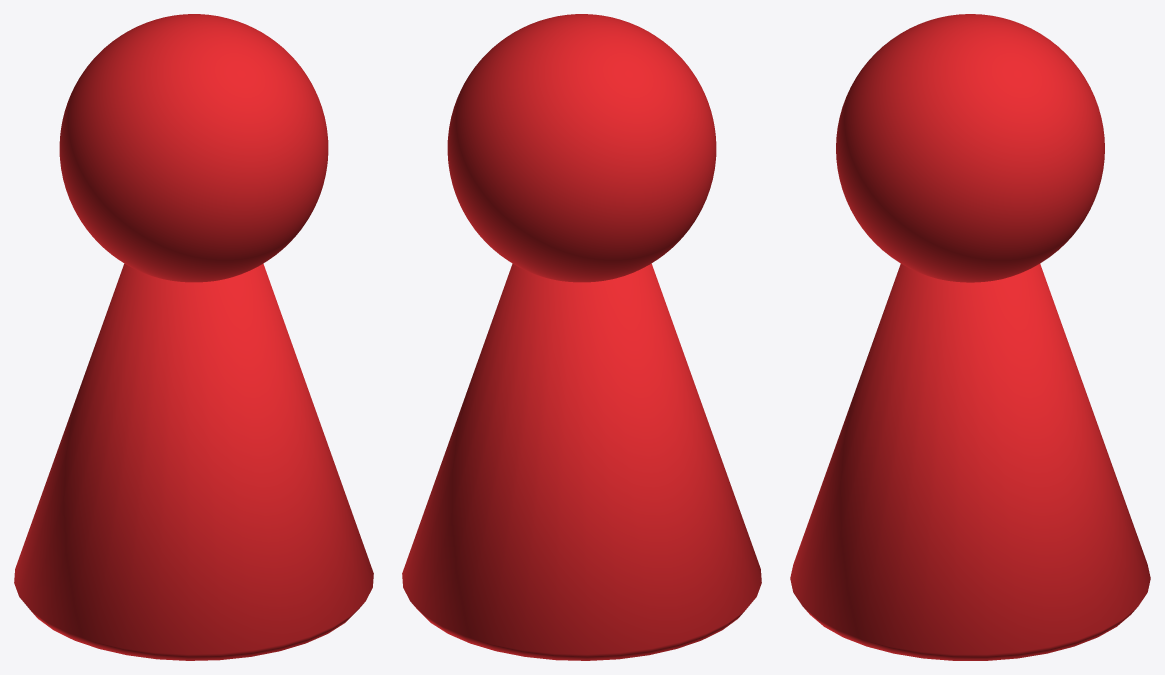
Rendered from Red_shape.gltf.
3 views of the same model, side by side, from view 1: azimuth 30°, elevation 25°; view 2: azimuth 150°, elevation 25°; view 3: azimuth 270°, elevation 25° (orthographic).
Parts seen in each view (by area): view 1: Красная_фигурка; view 2: Красная_фигурка; view 3: Красная_фигурка.
Part boxes in pixels (x1=…): Красная_фигурка: x1=14, y1=14, x2=373, y2=660; Красная_фигурка: x1=402, y1=14, x2=761, y2=660; Красная_фигурка: x1=790, y1=14, x2=1150, y2=660.
Size of the model in its own units: 2.46 by 4.3 by 2.47.
